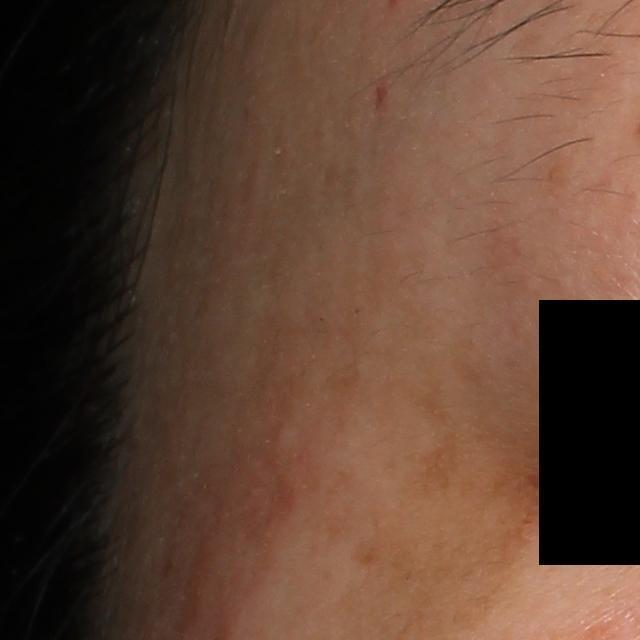melasma: (406, 388, 470, 506)
papule: (372, 74, 392, 118)
